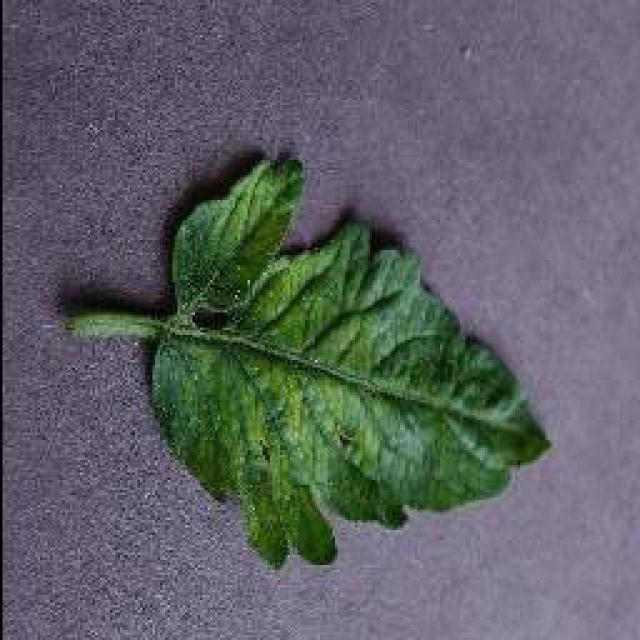Tomato___Tomato_mosaic_virus: (70, 160, 545, 565)
